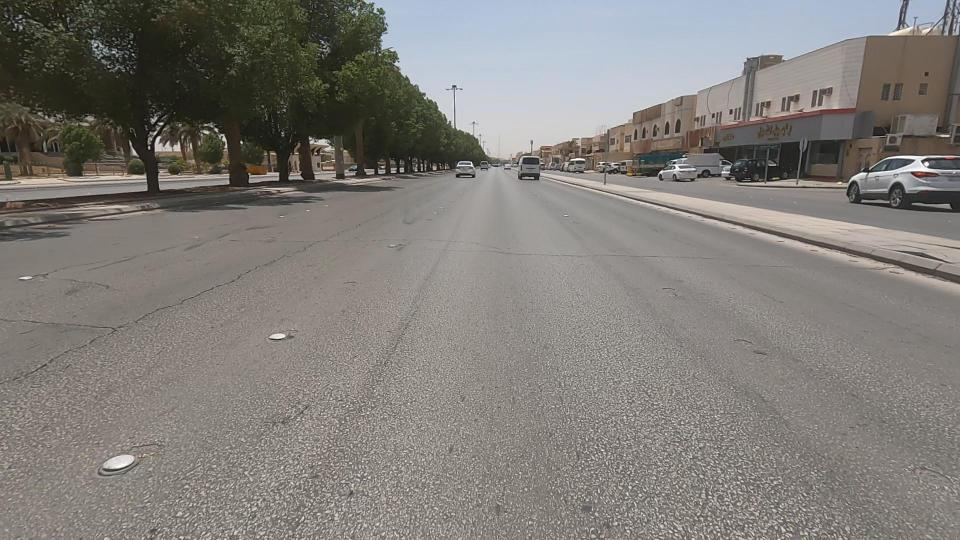BAD_BILLBOARD: (629, 118, 714, 164), (665, 118, 737, 159), (609, 126, 668, 163)
